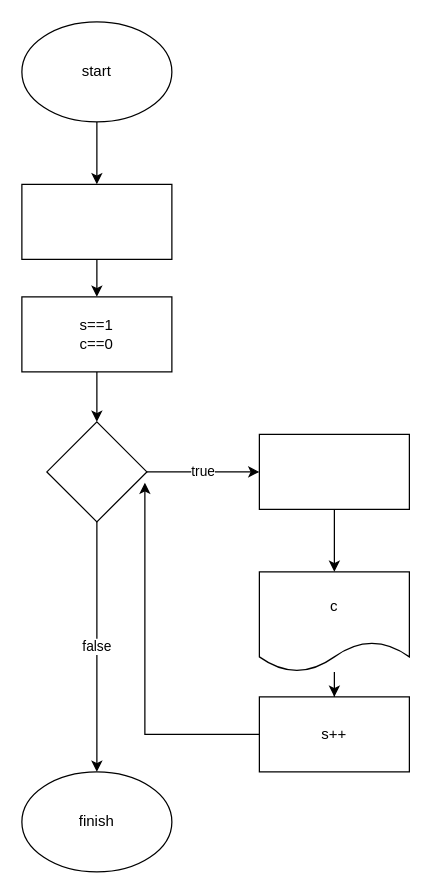
This 431x894 diagram has some shape labels left out. Each missing label, with the centre of its shape:
"c==s*6" belongs at point (333, 471).
"sayac<11" belongs at point (96, 471).
"sayac==s carpim==c" belongs at point (96, 221).
